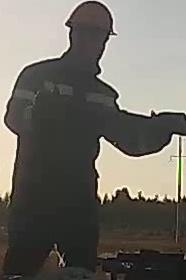helmet: (65, 0, 118, 43)
vest: (4, 61, 119, 198)
